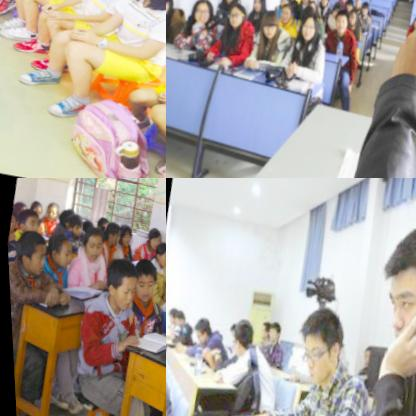head: (365, 213, 416, 360), (285, 305, 353, 390), (94, 254, 139, 310), (12, 229, 50, 277), (125, 259, 157, 303), (43, 230, 73, 270), (226, 317, 255, 357), (77, 225, 105, 263), (12, 206, 41, 239), (254, 5, 279, 40), (352, 341, 375, 376), (294, 10, 318, 43), (186, 0, 211, 27), (222, 0, 245, 28), (186, 316, 209, 344), (99, 218, 121, 247), (61, 214, 83, 239), (113, 221, 133, 248), (143, 227, 161, 252), (23, 198, 44, 219), (76, 217, 95, 239), (150, 242, 166, 268), (254, 317, 272, 340), (330, 8, 347, 32), (41, 202, 60, 222), (275, 3, 291, 25), (263, 319, 279, 341), (168, 306, 184, 325), (93, 215, 108, 235), (343, 7, 356, 26), (166, 301, 176, 325), (248, 0, 263, 11), (340, 0, 352, 12), (357, 0, 367, 14), (304, 0, 315, 11), (408, 14, 416, 28), (274, 0, 289, 7), (350, 0, 360, 7), (316, 0, 327, 6)
